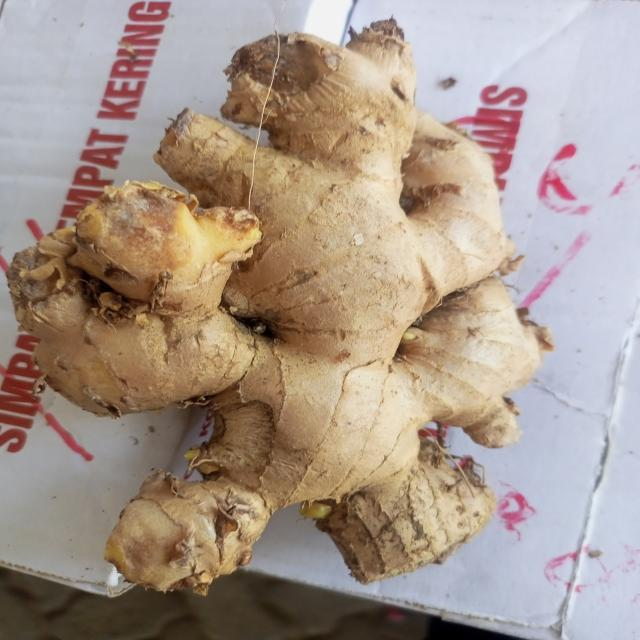ginger: (19, 18, 536, 589)
